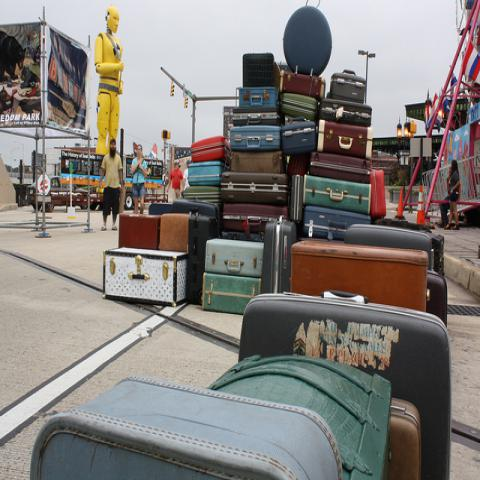bus: (61, 150, 163, 210)
